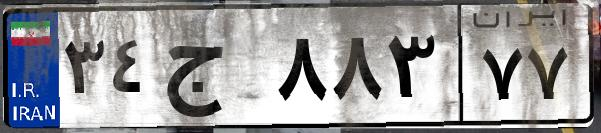3: (385, 28, 445, 110), (57, 26, 110, 100)
4: (110, 28, 158, 98)
7: (475, 38, 525, 113), (525, 38, 570, 115)
8: (270, 28, 330, 110), (330, 28, 385, 110)
ج: (158, 20, 270, 120)
